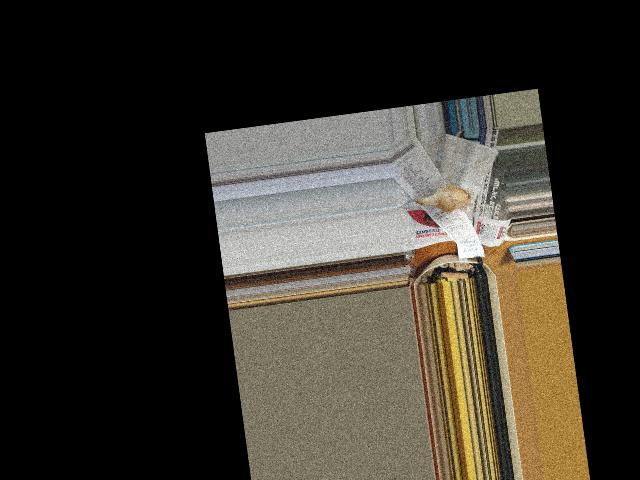onion: (429, 182, 470, 212)
